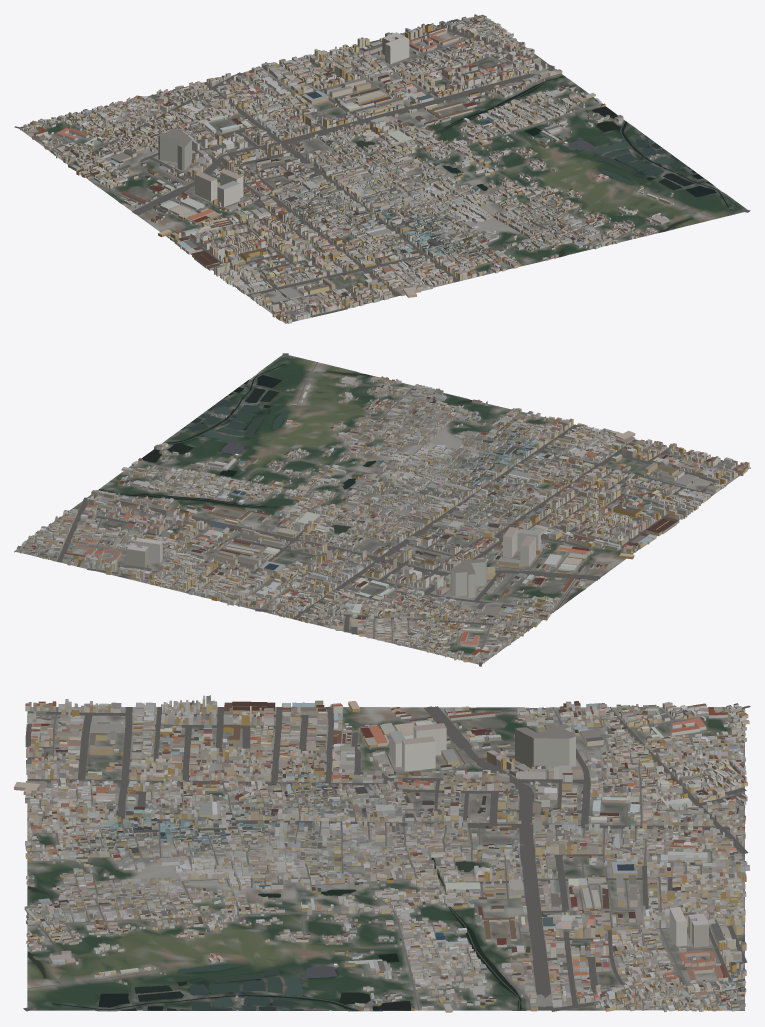
The picture shows the model from 3 angles, top to bottom: view 1: azimuth 30°, elevation 25°; view 2: azimuth 150°, elevation 25°; view 3: azimuth 270°, elevation 25°; orthographic projection. The views are drawn at different scales.
Parts seen in each view (by area): view 1: buildings, ground, roads, water; view 2: buildings, ground, roads, water; view 3: buildings, ground, roads, water.
Part boxes in pixels (<box>): buildings: <box>20,14,673,323</box>; ground: <box>17,17,746,323</box>; roads: <box>14,20,750,321</box>; water: <box>93,76,728,256</box>; buildings: <box>16,376,749,663</box>; ground: <box>14,355,750,664</box>; roads: <box>29,353,740,666</box>; water: <box>99,363,584,609</box>; buildings: <box>14,695,749,1012</box>; ground: <box>27,707,744,1011</box>; roads: <box>23,705,750,1011</box>; water: <box>28,707,543,1011</box>.
Size of the model in its own units: 1425 by 72.53 by 1438.
